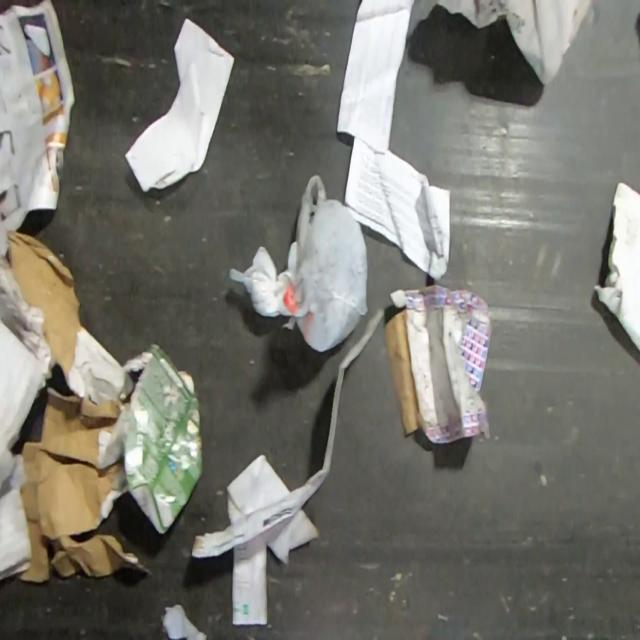cardboard: (6, 230, 152, 583), (382, 283, 494, 445), (0, 256, 53, 581), (116, 341, 204, 535)
soft_plastic: (190, 306, 384, 558), (227, 170, 370, 353), (407, 0, 598, 87)
